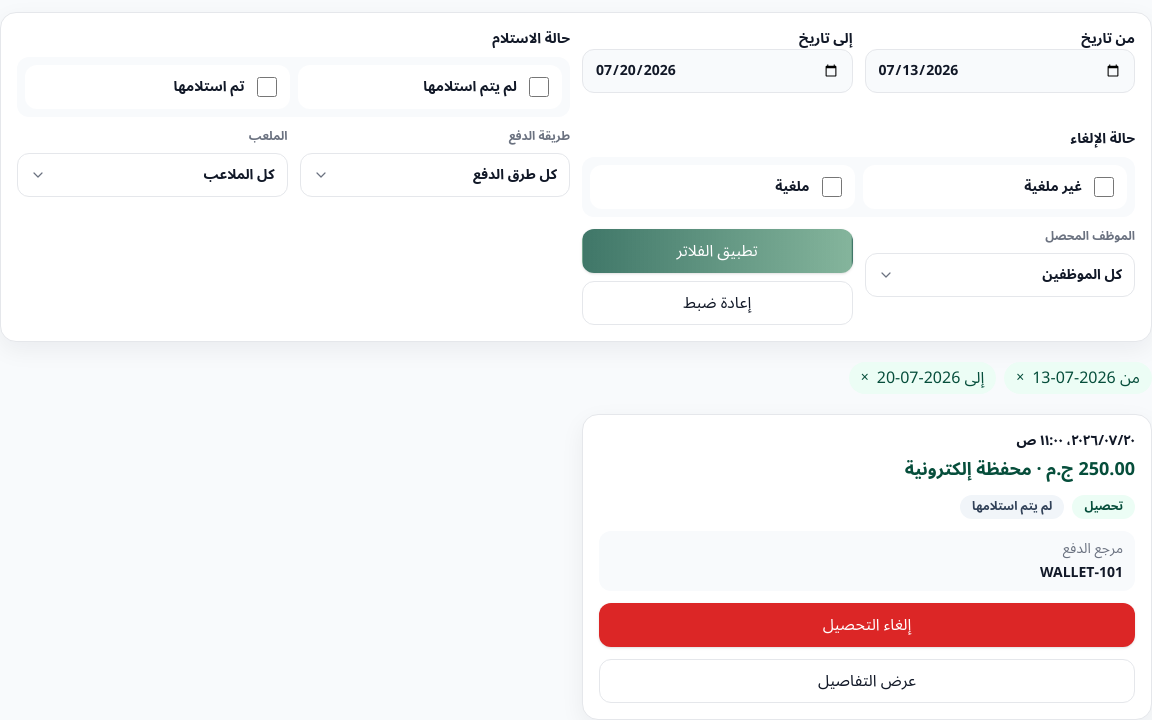
Test: TransactionsListPage › persists successful online transaction detail reads into the scoped cache
The image size is (1152, 720).
(page scrolled)
Click the button "عرض التفاصيل". click: [867, 681]
box: [599,659,1135,703]
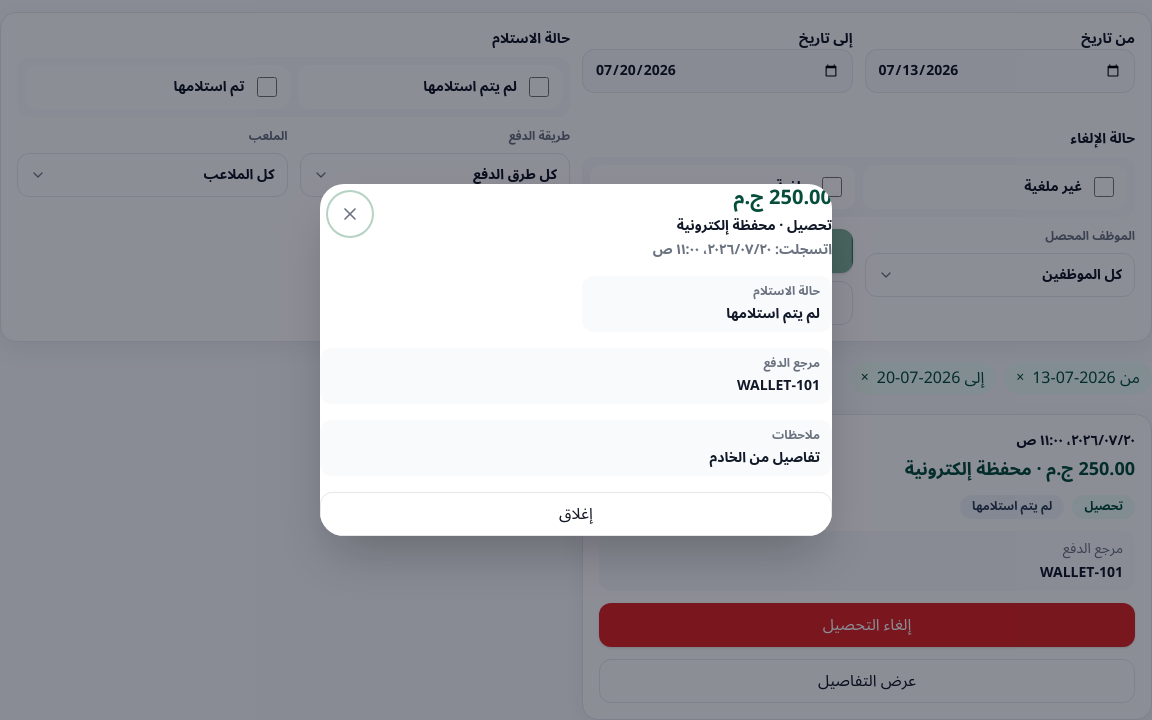
Check: the text "تفاصيل من الخادم" is shown, box [710,443,820,472]
